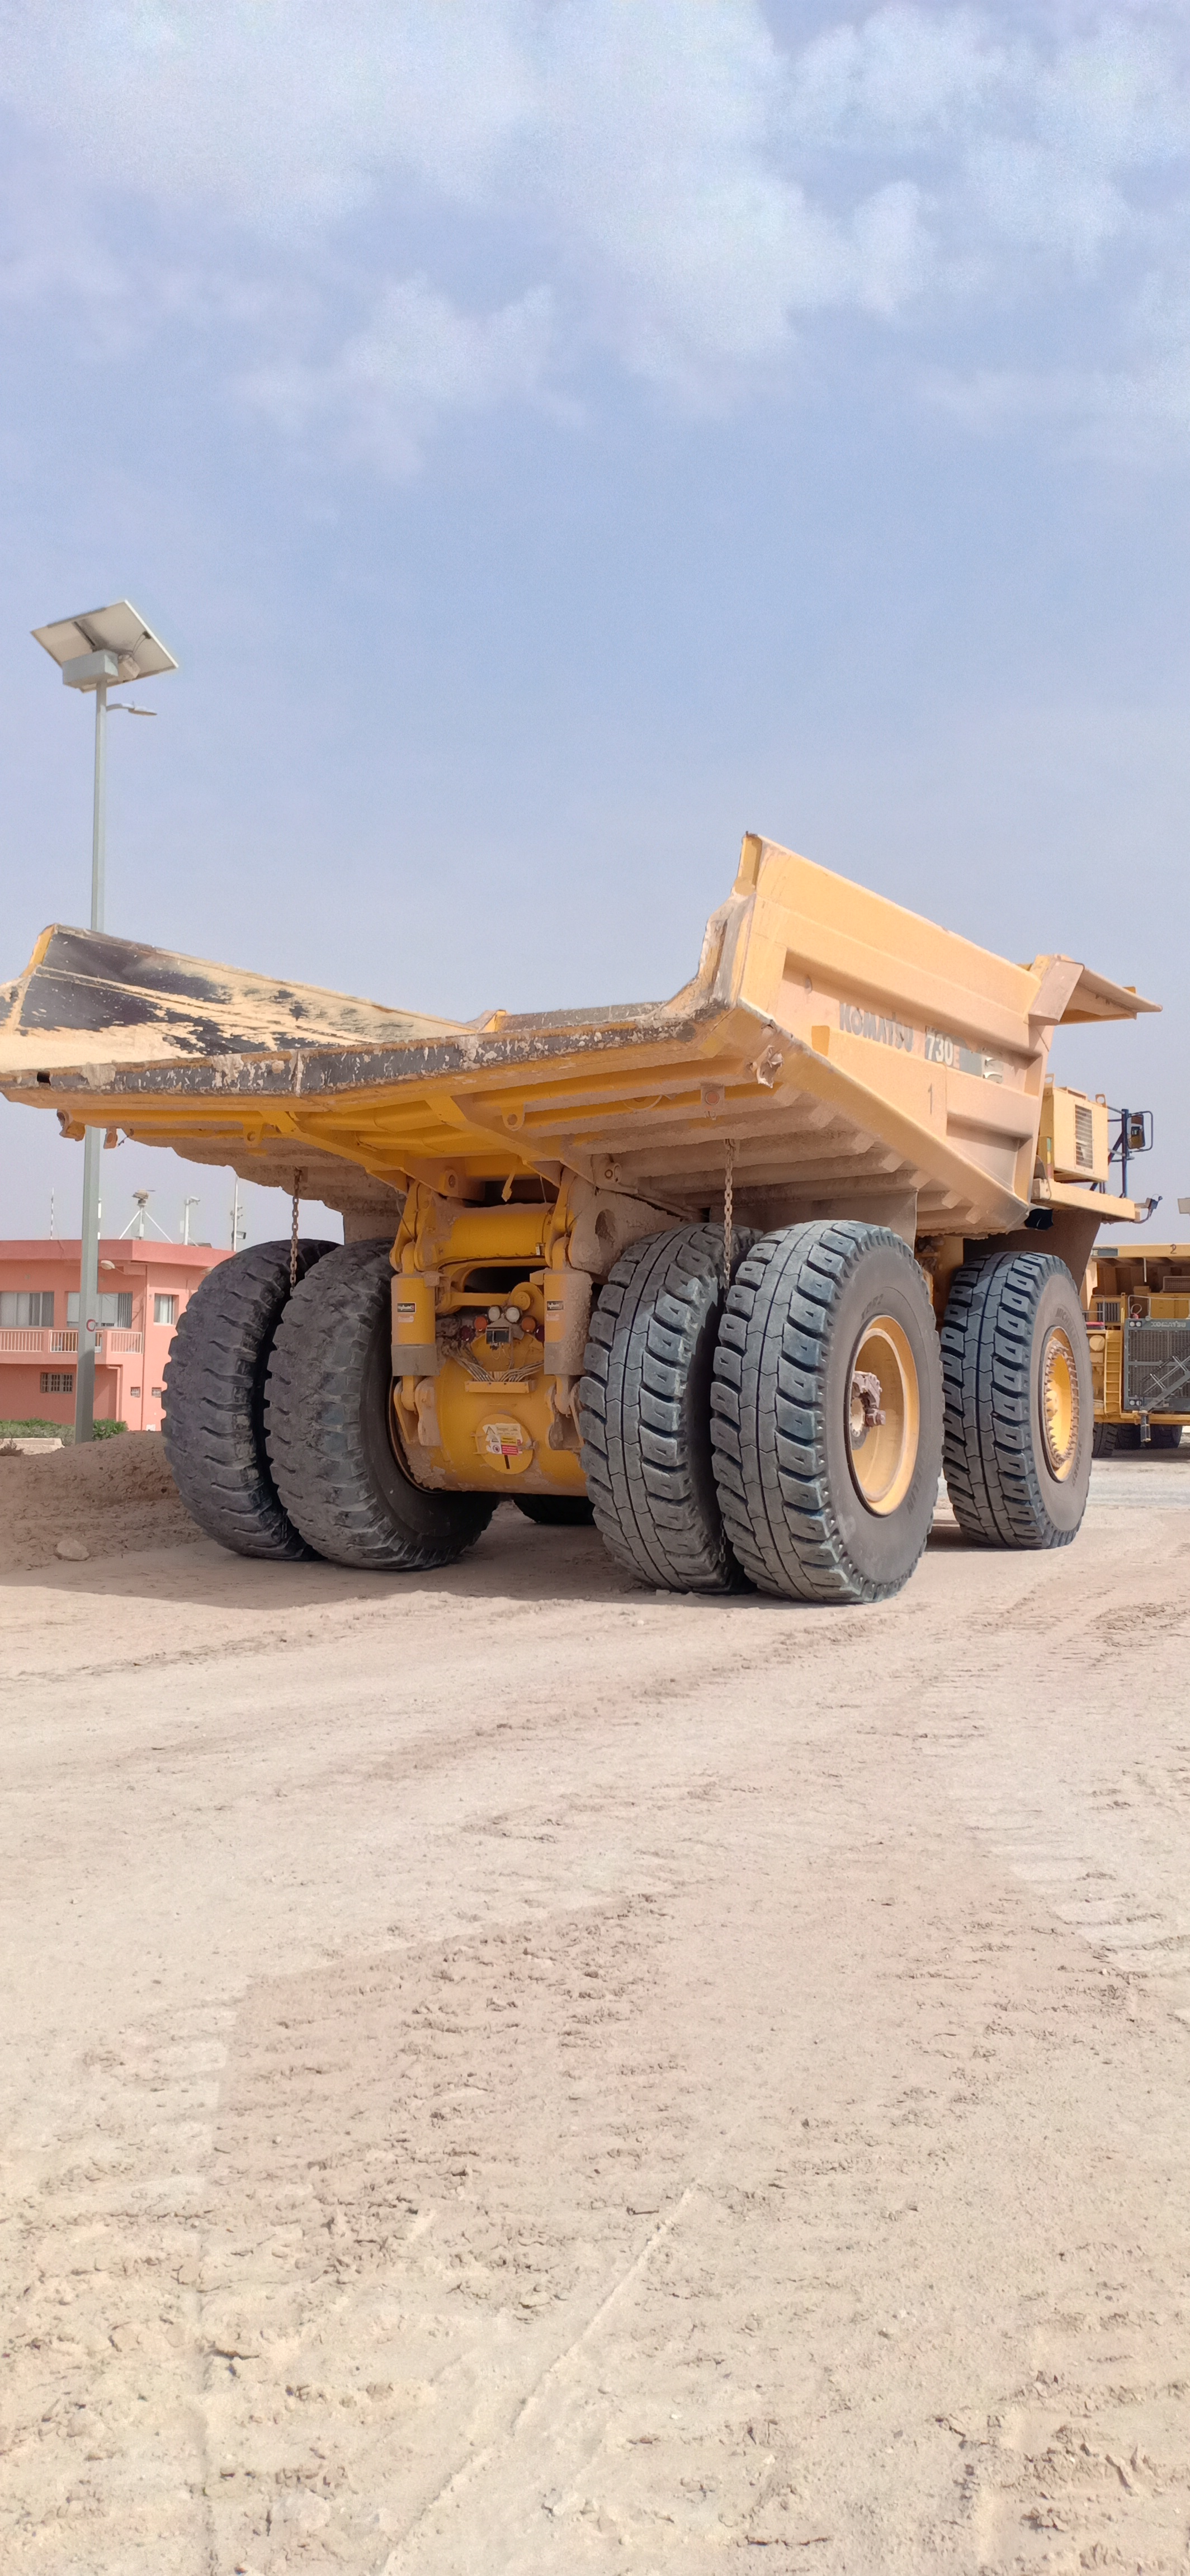camion: (0, 849, 1172, 1646), (1029, 1212, 1190, 1488)
